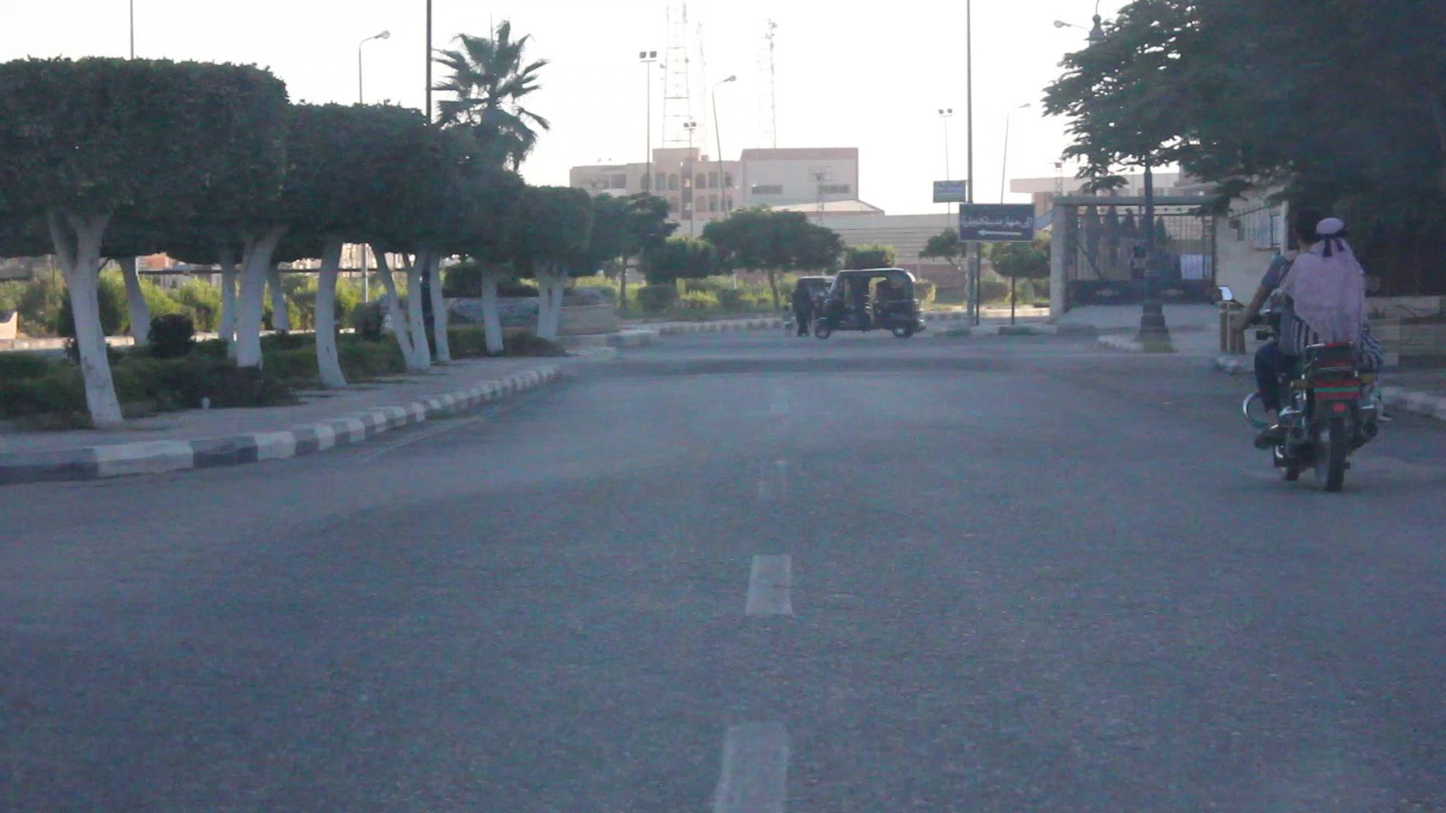Bump: (572, 339, 1152, 371)
